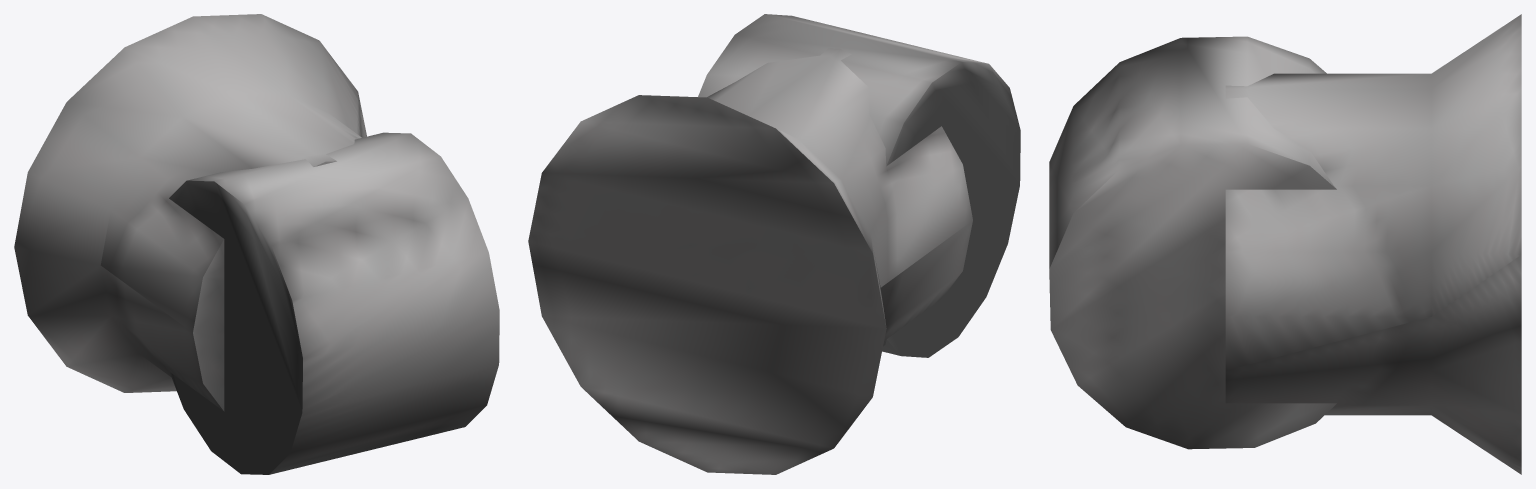
File: r_farm.dae
The picture shows the model from 3 angles, left to right: view 1: azimuth 30°, elevation 25°; view 2: azimuth 150°, elevation 25°; view 3: azimuth 270°, elevation 25°; orthographic projection. The views are drawn at different scales.
Visible parts, largest first — view 1: p42287_2, p42195_2; view 2: p42195_2, p42287_2; view 3: p42195_2, p42287_2.
Part boxes in pixels (x1,y1,x2,y2): p42287_2: [169, 132, 499, 474]; p42195_2: [14, 14, 366, 411]; p42195_2: [528, 48, 972, 474]; p42287_2: [698, 14, 1020, 357]; p42195_2: [1225, 14, 1521, 474]; p42287_2: [1049, 36, 1336, 449].
Size of the model in its own units: 0.0918 by 0.094 by 0.0918.
